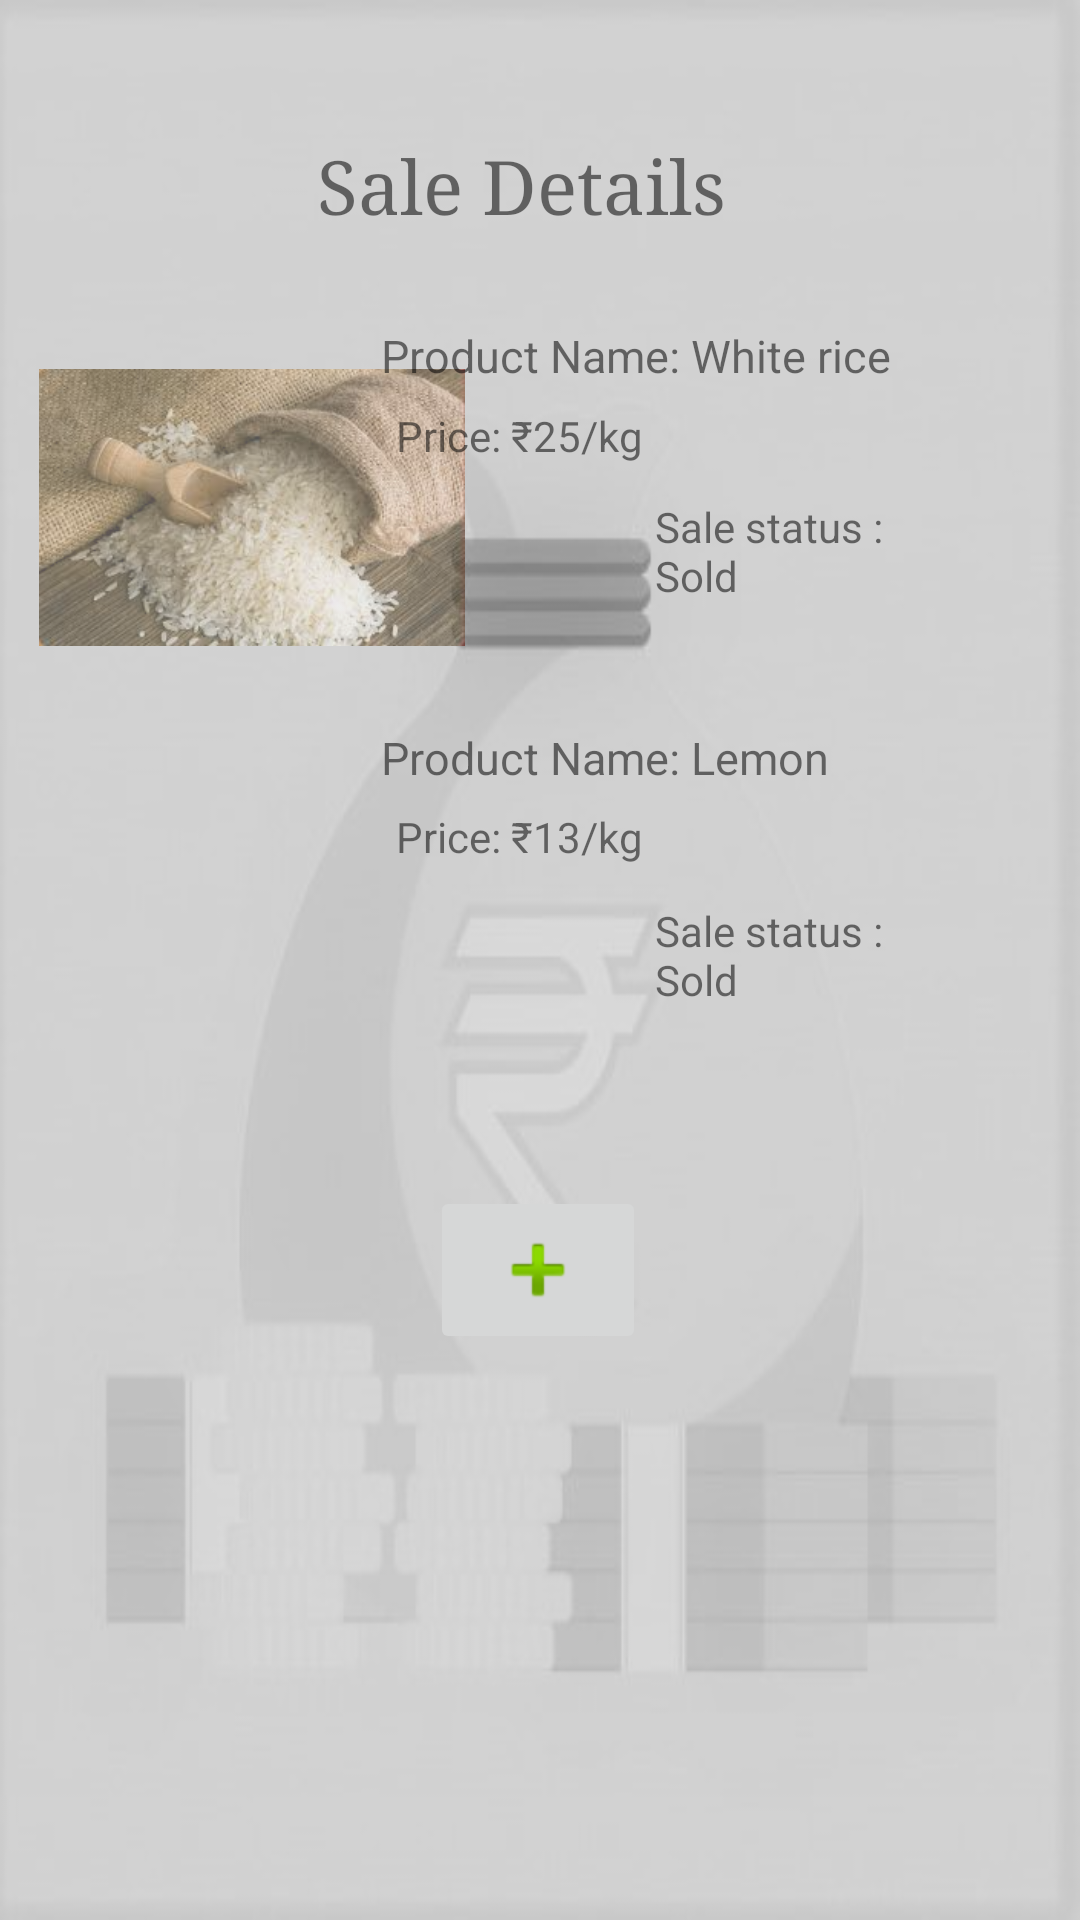

Point at icon controls on the screen. Image size 1080w x 1920h, points as (x,y).
add: (538,1270)
